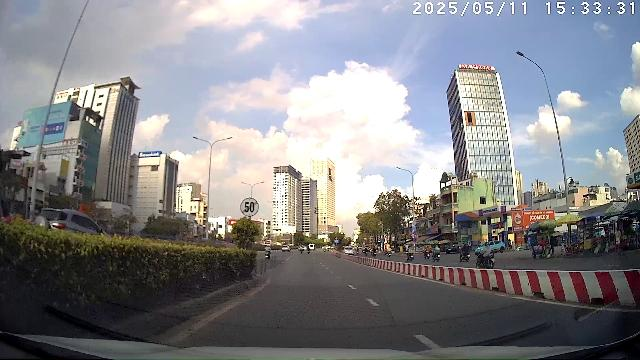134-het-han-che-toc-do-toi-da: (240, 197, 259, 217)
